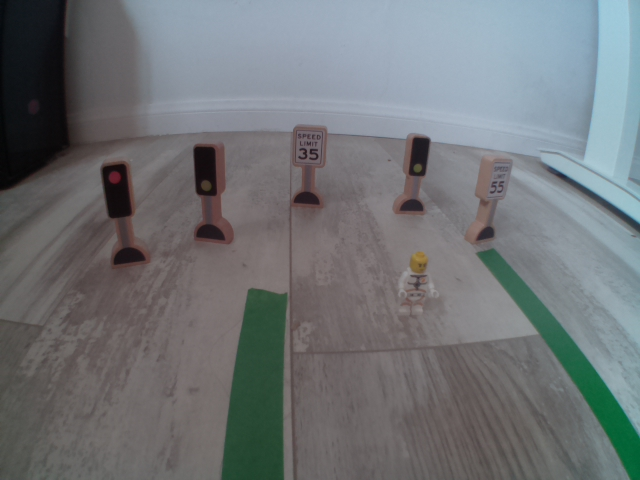Green Traffic Light: (185, 141, 228, 197), (401, 131, 437, 183)
Red Traffic Light: (93, 156, 141, 222)
Speed Limit 35: (285, 122, 330, 172)
Speed Limit 55: (479, 154, 515, 204)
person: (387, 247, 443, 321)
